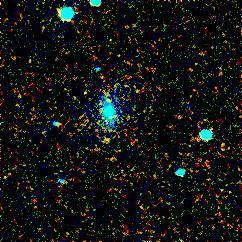star: (94, 84, 124, 114)
